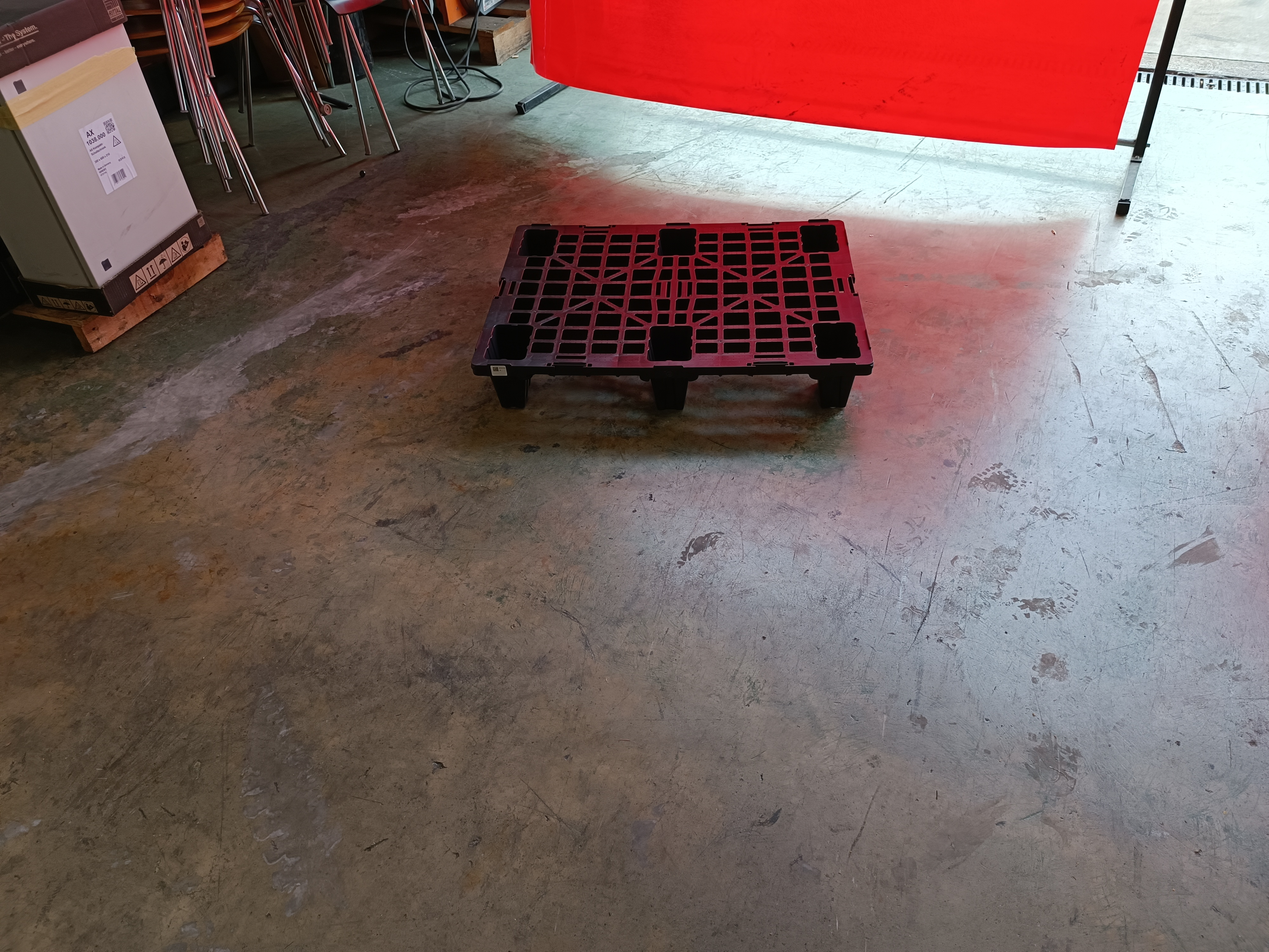block: (641, 365, 695, 423), (815, 363, 879, 406), (476, 362, 530, 410)
front: (475, 364, 873, 410)
hole pallet: (681, 370, 820, 416), (527, 374, 651, 407)
